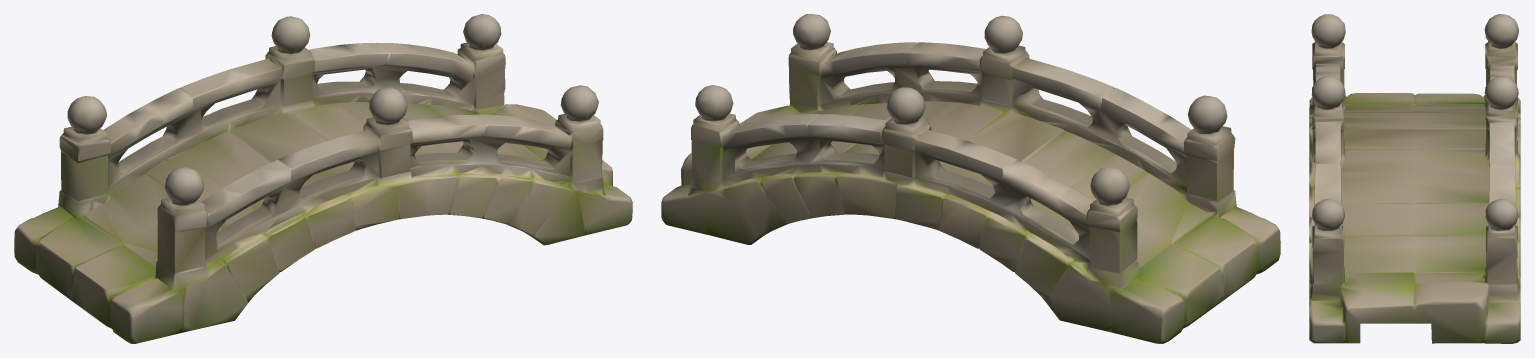
File: stone-bridge-low.glb
3 views of the same model, side by side, from view 1: azimuth 30°, elevation 25°; view 2: azimuth 150°, elevation 25°; view 3: azimuth 270°, elevation 25° (orthographic). The views are drawn at different scales.
Parts seen in each view (by area): view 1: stone-bridge-low; view 2: stone-bridge-low; view 3: stone-bridge-low.
Part boxes in pixels (left/top/right/bottom): stone-bridge-low: left=14, top=14, right=632, bottom=343; stone-bridge-low: left=661, top=14, right=1280, bottom=343; stone-bridge-low: left=1309, top=14, right=1520, bottom=343.
Bounding box in the file's own units: 0.9998 × 0.3508 × 0.4083.
